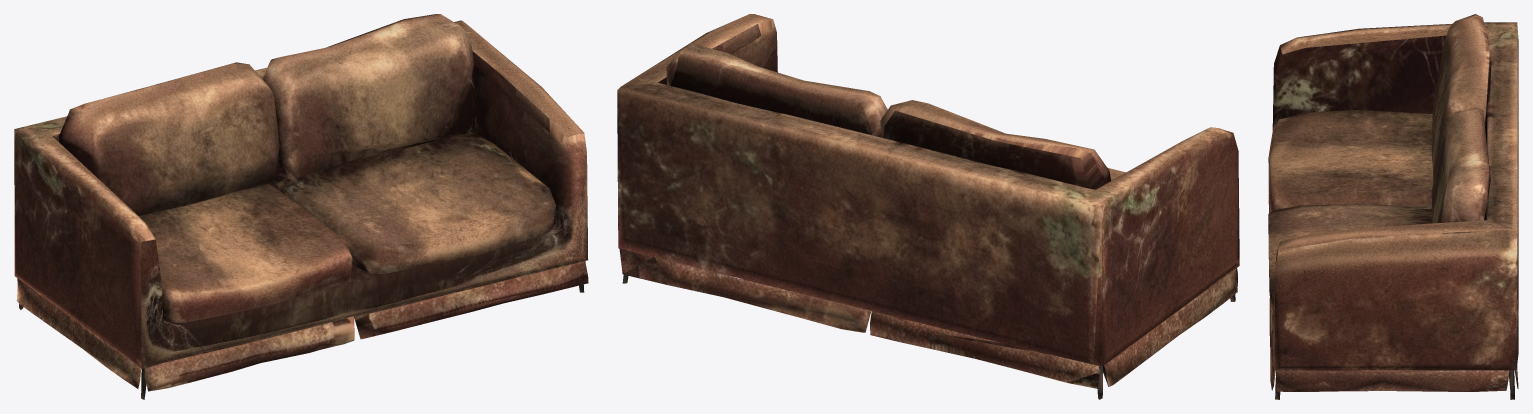
File: Couch.fbx
The picture shows the model from 3 angles, left to right: view 1: azimuth 30°, elevation 25°; view 2: azimuth 150°, elevation 25°; view 3: azimuth 270°, elevation 25°; orthographic projection. The views are drawn at different scales.
Parts seen in each view (by area): view 1: couch02_lo; view 2: couch02_lo; view 3: couch02_lo.
Boxes of the visible parts, x1,y1,x2,y2 form: couch02_lo: (14, 14, 588, 399); couch02_lo: (617, 14, 1239, 399); couch02_lo: (1268, 14, 1518, 399).
Size of the model in its own units: 202 by 90.08 by 102.
1 material, 1 textured.
